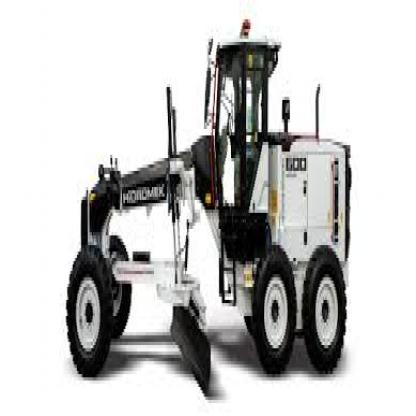bull_dozer/loader/grader: (52, 22, 364, 412)
